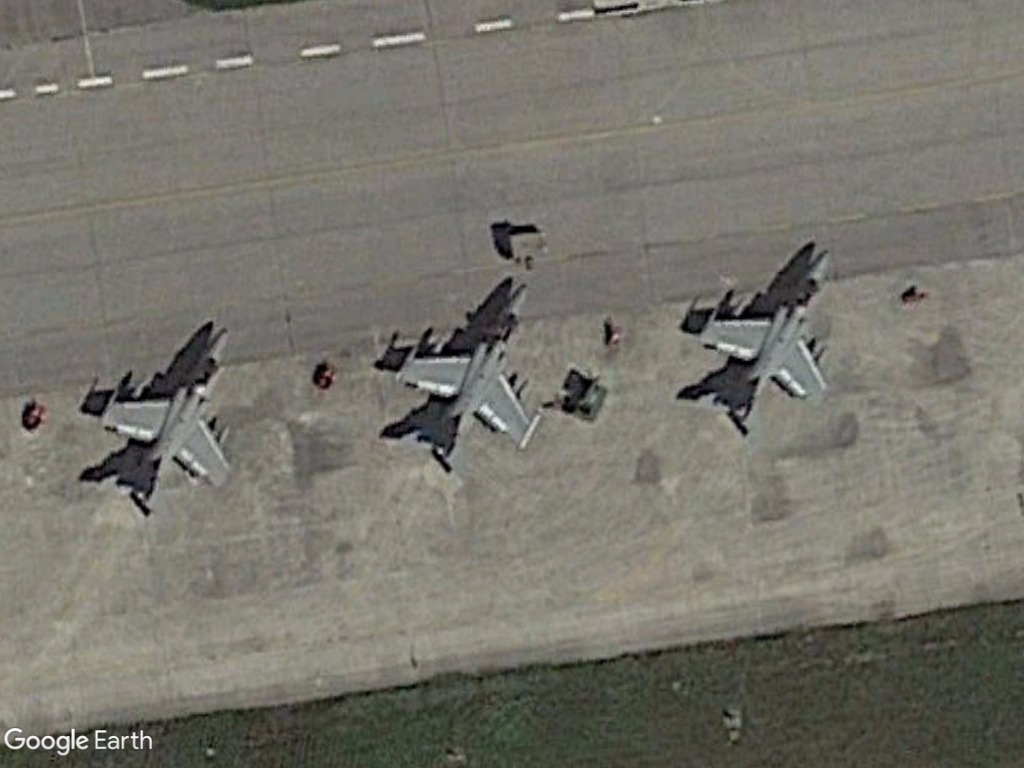fighter: (685, 237, 837, 446), (393, 275, 545, 483), (97, 325, 246, 520)
